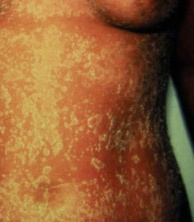SJS-TEN: (0, 0, 191, 222)
